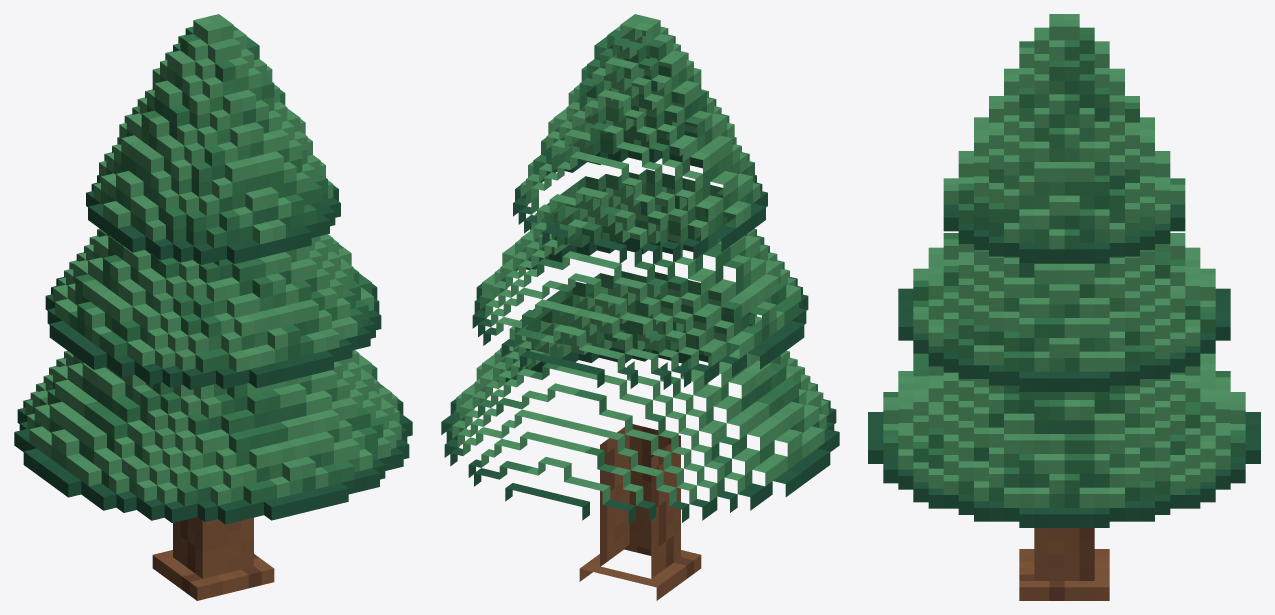
File: tree_voxel_pine_c.glb
The picture shows the model from 3 angles, left to right: view 1: azimuth 30°, elevation 25°; view 2: azimuth 150°, elevation 25°; view 3: azimuth 270°, elevation 25°; orthographic projection.
Parts seen in each view (by area): view 1: Tree.001; view 2: Tree.001; view 3: Tree.001.
Part boxes in pixels (x1=…): Tree.001: x1=14, y1=14, x2=412, y2=600; Tree.001: x1=441, y1=14, x2=839, y2=600; Tree.001: x1=868, y1=14, x2=1260, y2=600.
Bounding box in the file's own units: 1.04 × 1.64 × 1.04.
